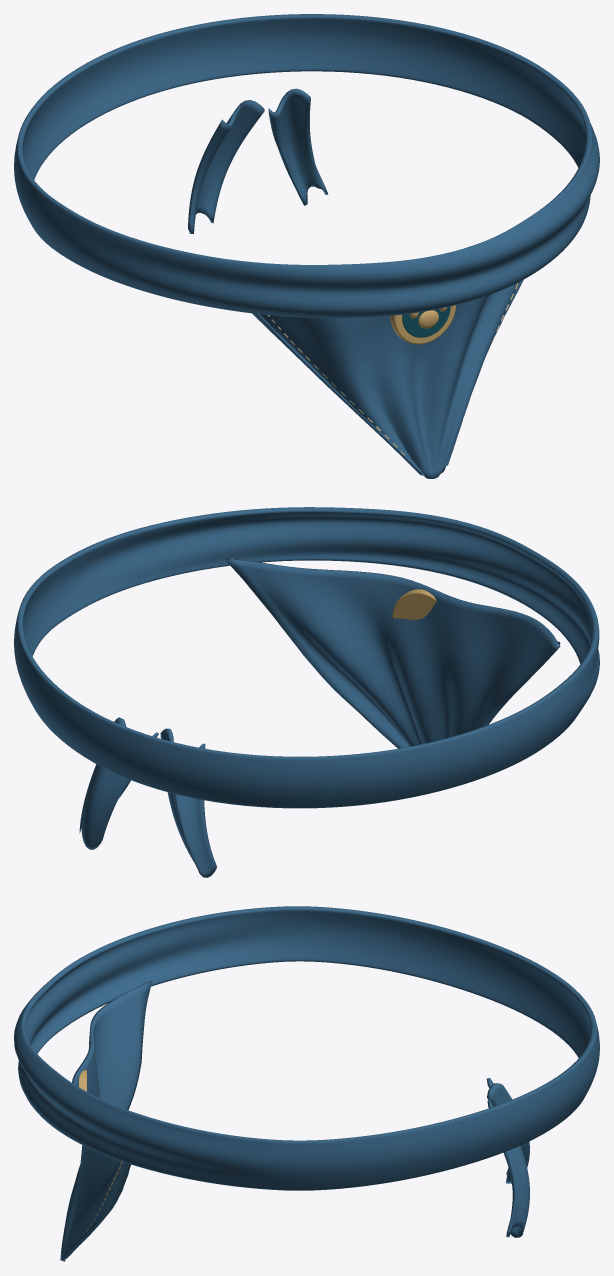
The model's file is bear_travel_outfit.glb.
3 renders of one model, top to bottom at view 1: azimuth 30°, elevation 25°; view 2: azimuth 150°, elevation 25°; view 3: azimuth 270°, elevation 25°, orthographic. The views are drawn at different scales.
Visible parts, largest first — view 1: bear_travel_outfit__WovenCloth_TravelBlue, bear_travel_outfit__SatinBrass_PawBrooch, bear_travel_outfit__Enamel_InsetShadow; view 2: bear_travel_outfit__WovenCloth_TravelBlue, bear_travel_outfit__SatinBrass_PawBrooch; view 3: bear_travel_outfit__WovenCloth_TravelBlue.
Boxes of the visible parts, x1,y1,x2,y2 form: bear_travel_outfit__WovenCloth_TravelBlue: (14, 14, 599, 478); bear_travel_outfit__SatinBrass_PawBrooch: (390, 305, 456, 344); bear_travel_outfit__Enamel_InsetShadow: (402, 306, 450, 337); bear_travel_outfit__WovenCloth_TravelBlue: (14, 507, 599, 877); bear_travel_outfit__SatinBrass_PawBrooch: (392, 589, 436, 619); bear_travel_outfit__WovenCloth_TravelBlue: (14, 906, 599, 1261).
Bounding box in the file's own units: 1.21 × 0.5649 × 1.25.
